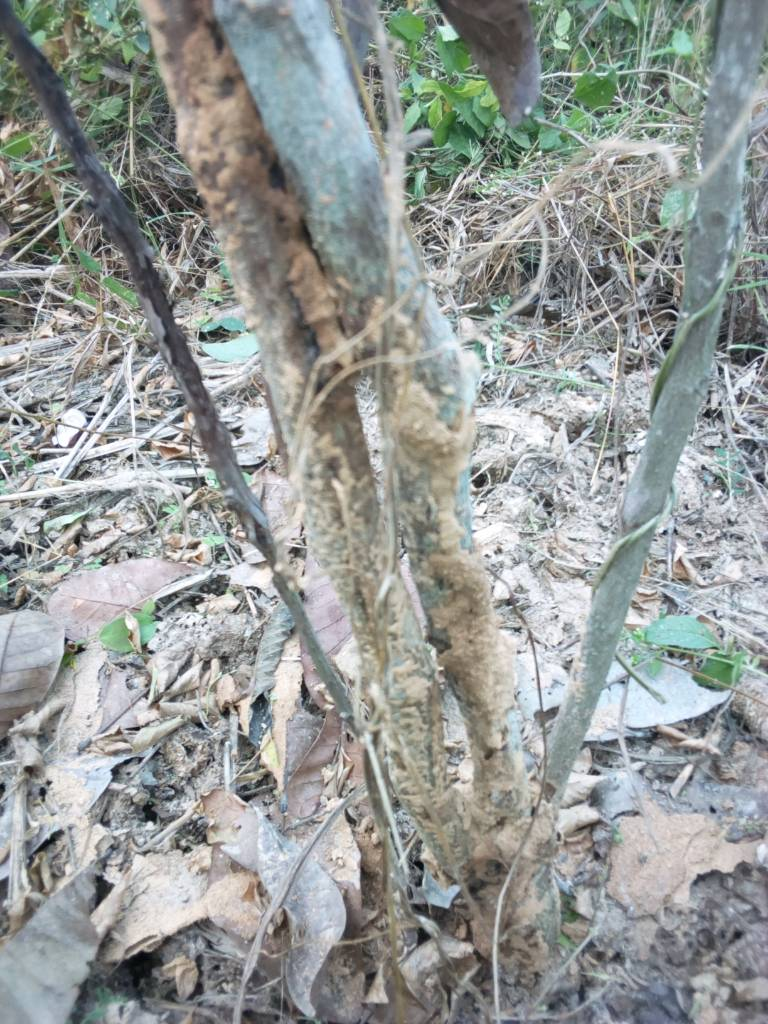Termites: (391, 374, 546, 944), (183, 32, 368, 388)
